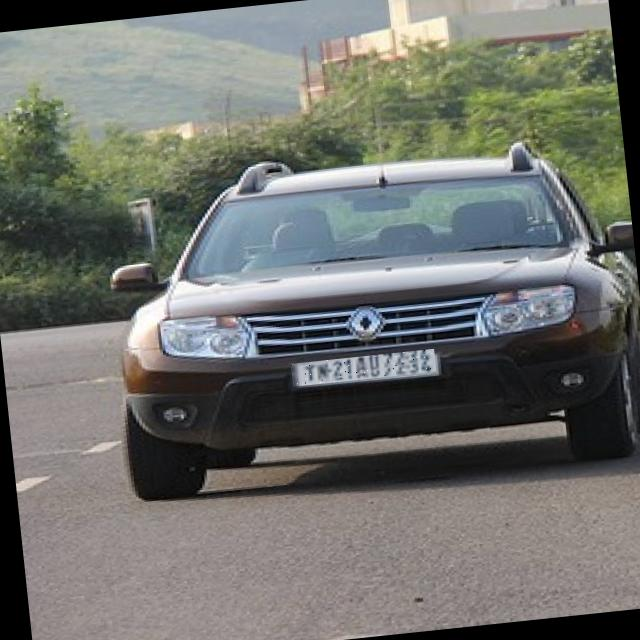Plate: (291, 349, 437, 387)
